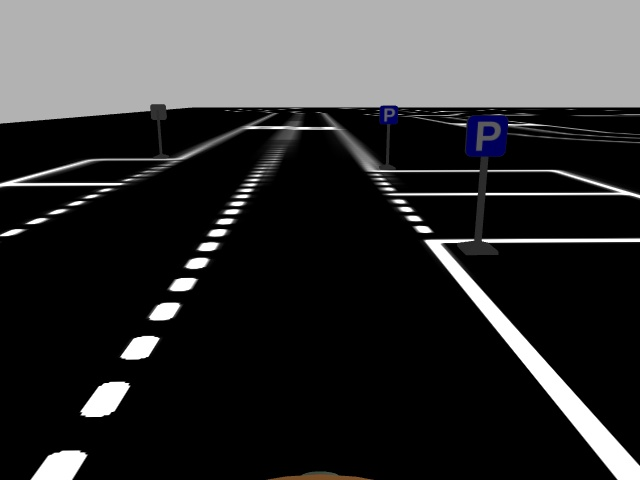parking: (463, 113, 508, 156), (378, 104, 398, 124)
